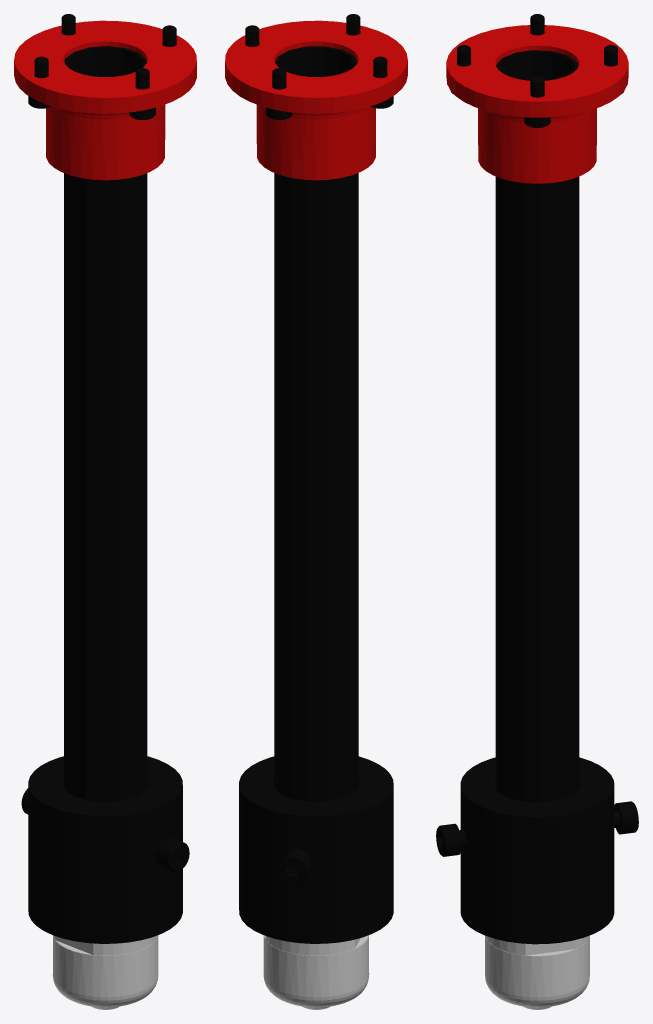
File: joint_leg.dae
3 renders of one model, left to right at view 1: azimuth 30°, elevation 25°; view 2: azimuth 150°, elevation 25°; view 3: azimuth 270°, elevation 25°, orthographic.
Visible parts, largest first — view 1: joint_leg_black_part, joint_leg_red_part, joint_leg_grey_part; view 2: joint_leg_black_part, joint_leg_red_part, joint_leg_grey_part; view 3: joint_leg_black_part, joint_leg_red_part, joint_leg_grey_part.
Boxes of the visible parts, x1,y1,x2,y2 form: joint_leg_black_part: (21,14,189,943); joint_leg_red_part: (14,20,196,180); joint_leg_grey_part: (52,935,158,1009); joint_leg_black_part: (239,14,393,943); joint_leg_red_part: (225,20,407,180); joint_leg_grey_part: (263,935,369,1009); joint_leg_black_part: (436,14,638,944); joint_leg_red_part: (446,25,628,183); joint_leg_grey_part: (485,935,589,1009).
Bounding box in the file's own units: 0.026 × 0.0289 × 0.1511.
